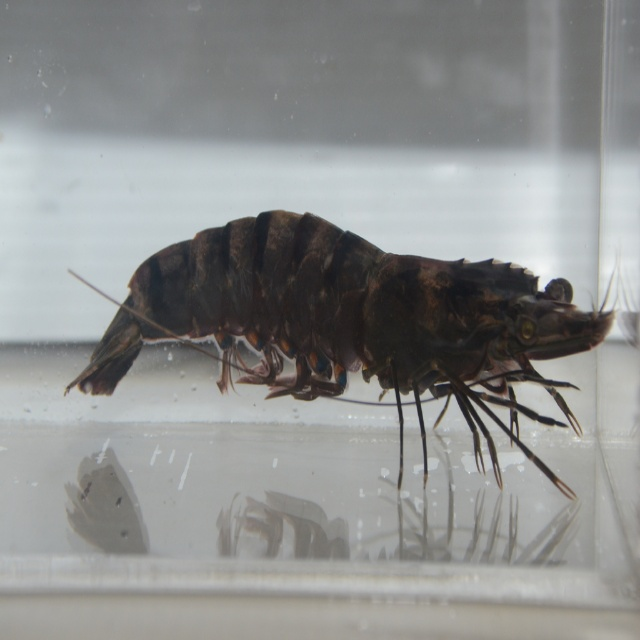Shrimp: (66, 207, 622, 503)
